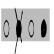correct: (41, 18, 47, 38)
not correct: (13, 7, 24, 54)
